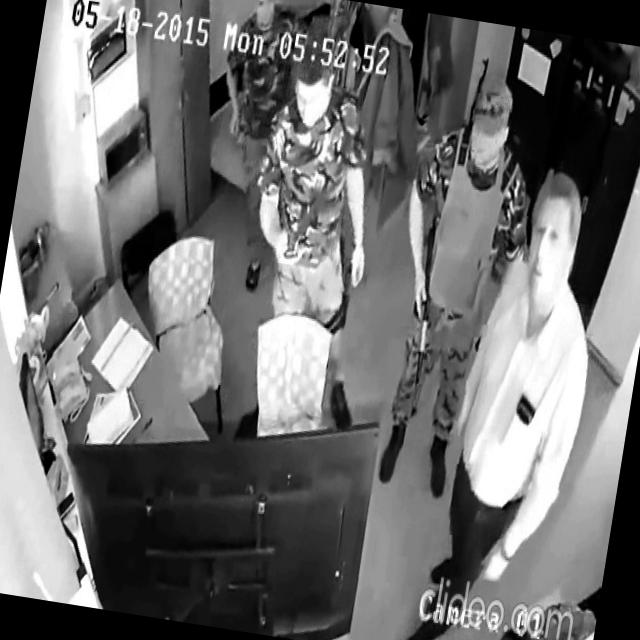gun: (395, 205, 452, 424)
person: (396, 157, 620, 640), (220, 23, 414, 437), (190, 0, 321, 298)
person with a gun: (362, 67, 551, 510)
